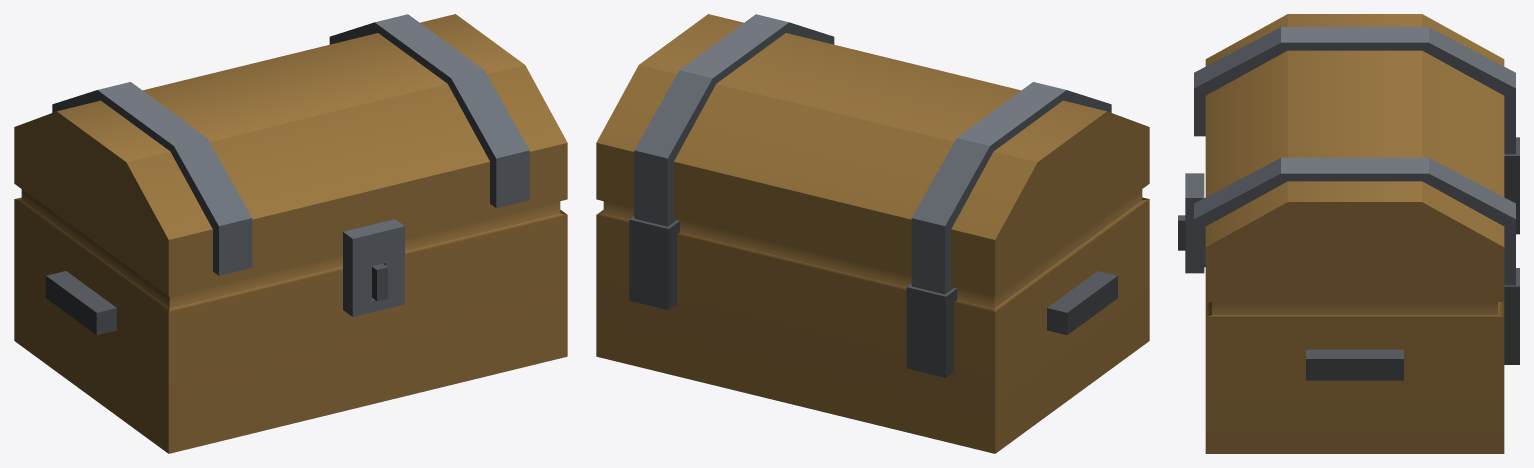
The model's file is Chest.gltf.
3 renders of one model, left to right at view 1: azimuth 30°, elevation 25°; view 2: azimuth 150°, elevation 25°; view 3: azimuth 270°, elevation 25°, orthographic. The views are drawn at different scales.
Visible parts, largest first — view 1: SF_Prop_Chest_Lid, SF_Prop_Chest_01; view 2: SF_Prop_Chest_Lid, SF_Prop_Chest_01; view 3: SF_Prop_Chest_Lid, SF_Prop_Chest_01.
Boxes of the visible parts, box(x1,y1,x2,y2) form: SF_Prop_Chest_Lid: box(14, 14, 567, 316); SF_Prop_Chest_01: box(14, 189, 567, 453); SF_Prop_Chest_Lid: box(596, 14, 1149, 296); SF_Prop_Chest_01: box(596, 189, 1149, 453); SF_Prop_Chest_Lid: box(1185, 14, 1515, 301); SF_Prop_Chest_01: box(1178, 137, 1519, 453).
Bounding box in the file's own units: 0.0234 × 0.0137 × 0.0163.
1 material, 1 textured.
